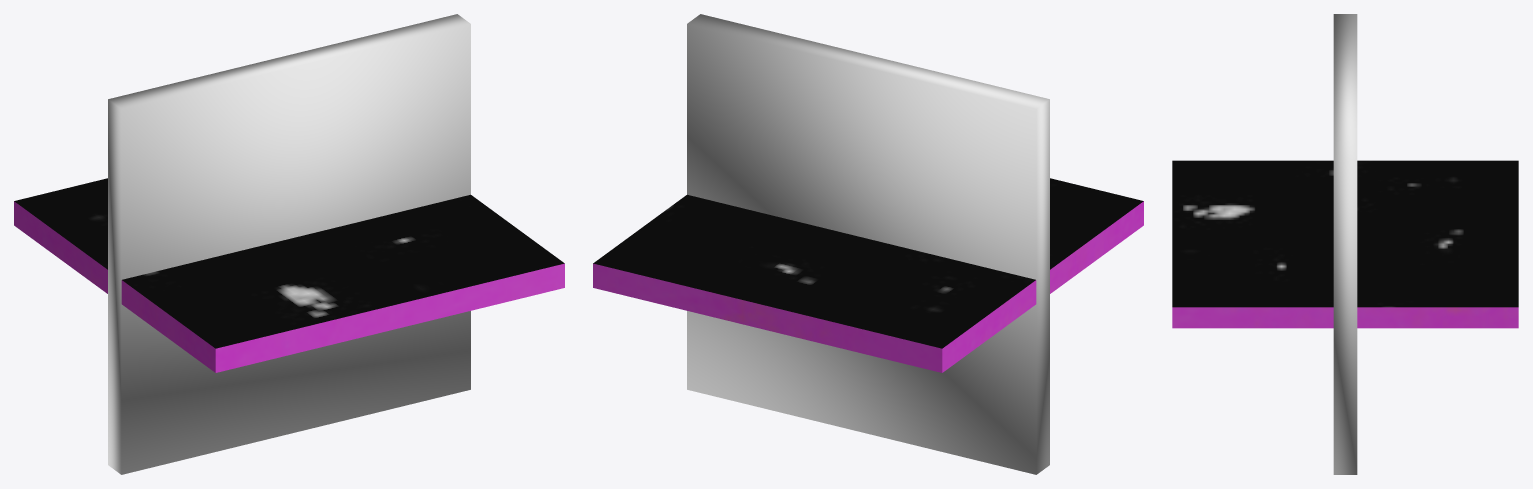
File: SM_Floor_Ceiling_Large.fbx
3 renders of one model, left to right at view 1: azimuth 30°, elevation 25°; view 2: azimuth 150°, elevation 25°; view 3: azimuth 270°, elevation 25°, orthographic. The views are drawn at different scales.
Visible parts, largest first — view 1: SM_Floor_Ceiling_Large_ConvexHulls, SM_Floor_Ceiling_Large; view 2: SM_Floor_Ceiling_Large_ConvexHulls, SM_Floor_Ceiling_Large; view 3: SM_Floor_Ceiling_Large, SM_Floor_Ceiling_Large_ConvexHulls.
Boxes of the visible parts, left/top/right/bottom form: SM_Floor_Ceiling_Large_ConvexHulls: left=108, top=14, right=470, bottom=474; SM_Floor_Ceiling_Large: left=14, top=178, right=564, bottom=372; SM_Floor_Ceiling_Large_ConvexHulls: left=687, top=14, right=1049, bottom=474; SM_Floor_Ceiling_Large: left=593, top=178, right=1143, bottom=372; SM_Floor_Ceiling_Large: left=1172, top=160, right=1518, bottom=328; SM_Floor_Ceiling_Large_ConvexHulls: left=1333, top=14, right=1357, bottom=474.
Bounding box in the file's own units: 3 × 3 × 3.
